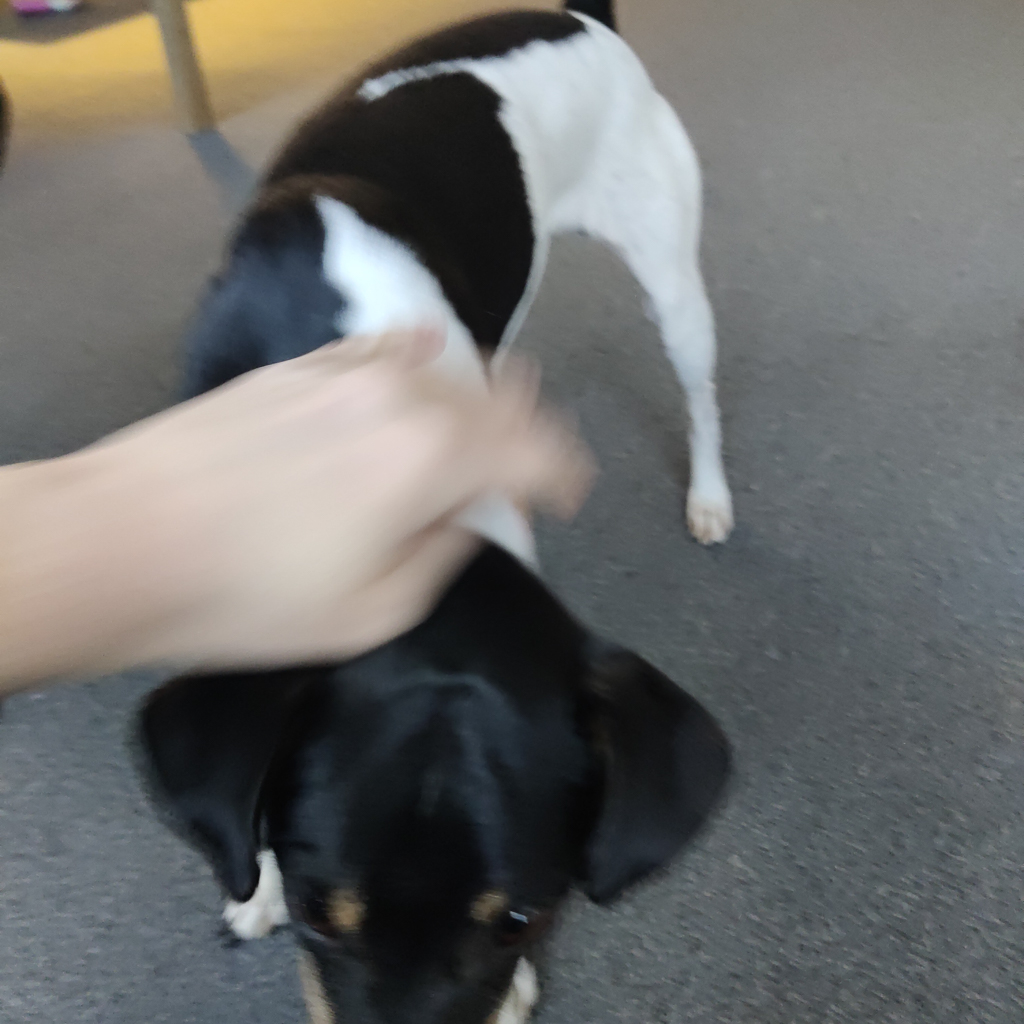Dog: (96, 0, 794, 1024)
